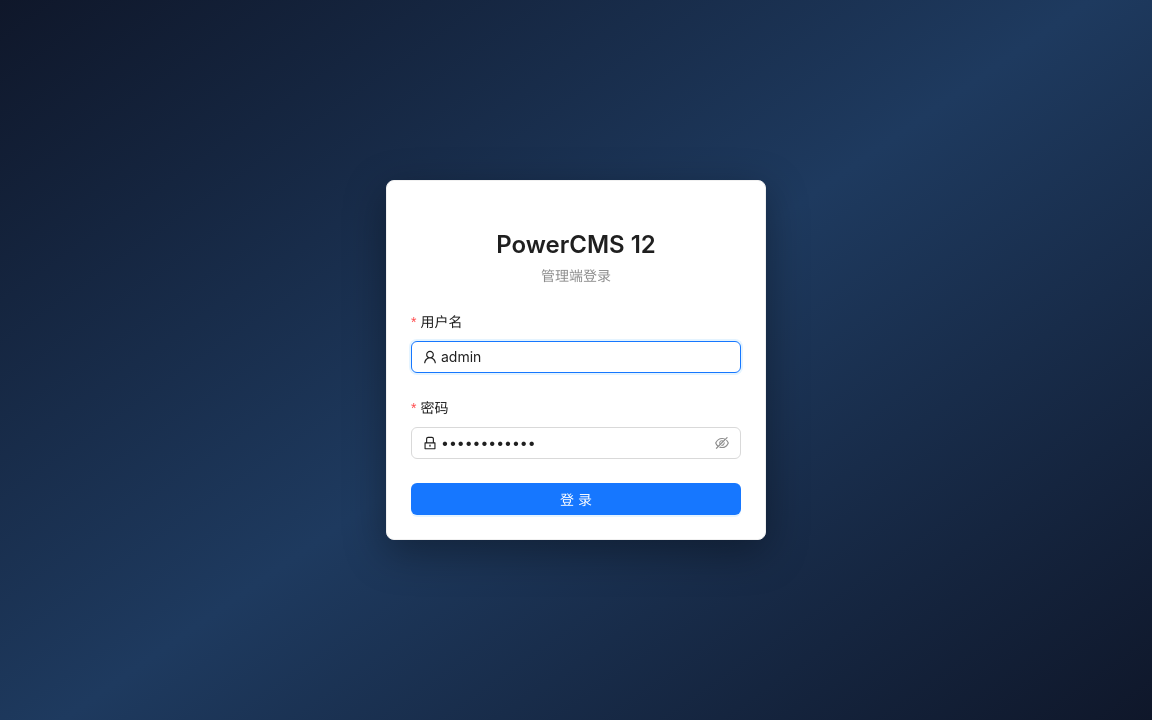
Test: LoginPage · 登录失败展示后端文案（FR-IAM-002） › 后端返回「还可尝试 N 次」时直接展示，不回落通用提示
Expected: the field labelled "用户名" is shown, x1=441 y1=346 x2=729 y2=368
Click the button "登 录".
click(576, 499)  # box x1=411 y1=483 x2=741 y2=515
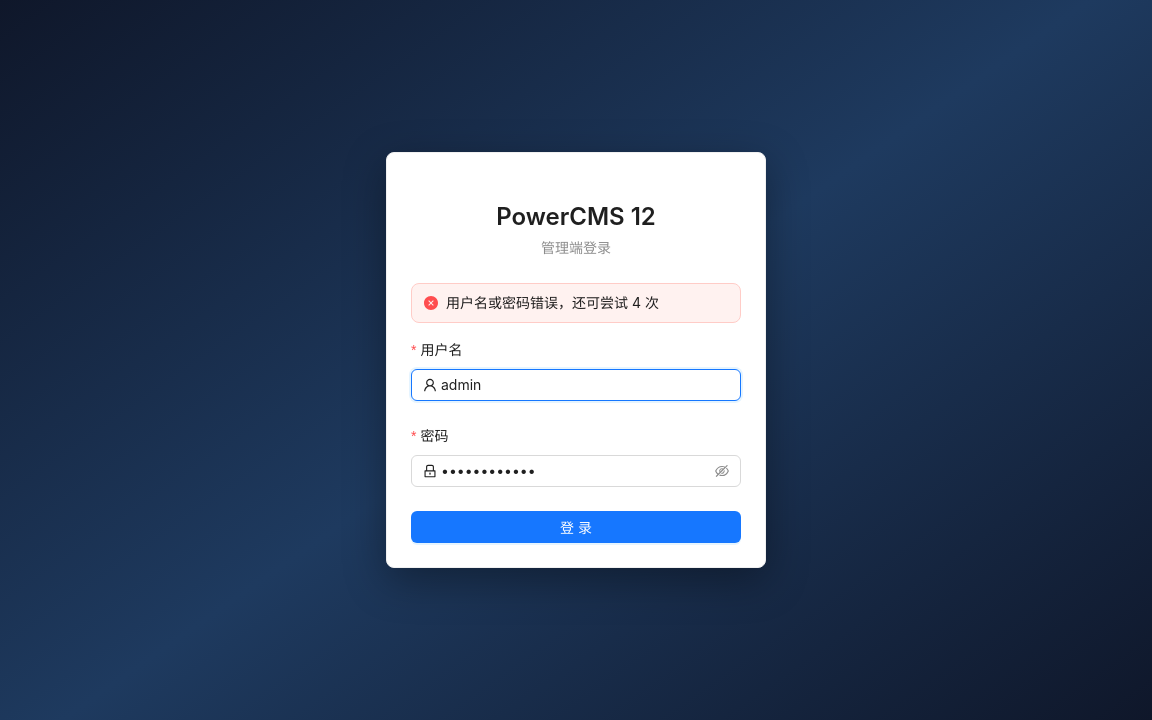
Expected: the text "用户名或密码错误，还可尝试 4 次" is shown, x1=446 y1=294 x2=659 y2=311
